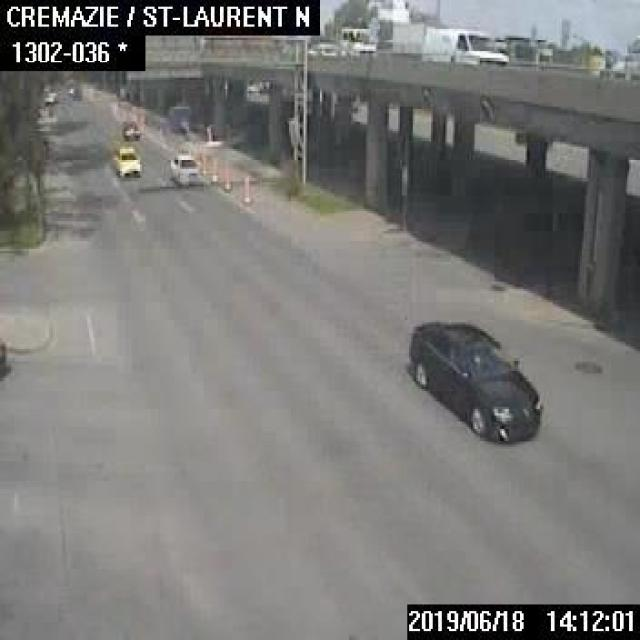construction: (222, 151, 231, 193), (240, 169, 249, 204)
vehicle: (407, 318, 542, 442), (418, 22, 509, 60), (312, 22, 374, 47), (107, 140, 142, 176), (167, 149, 202, 180), (120, 118, 138, 136)
